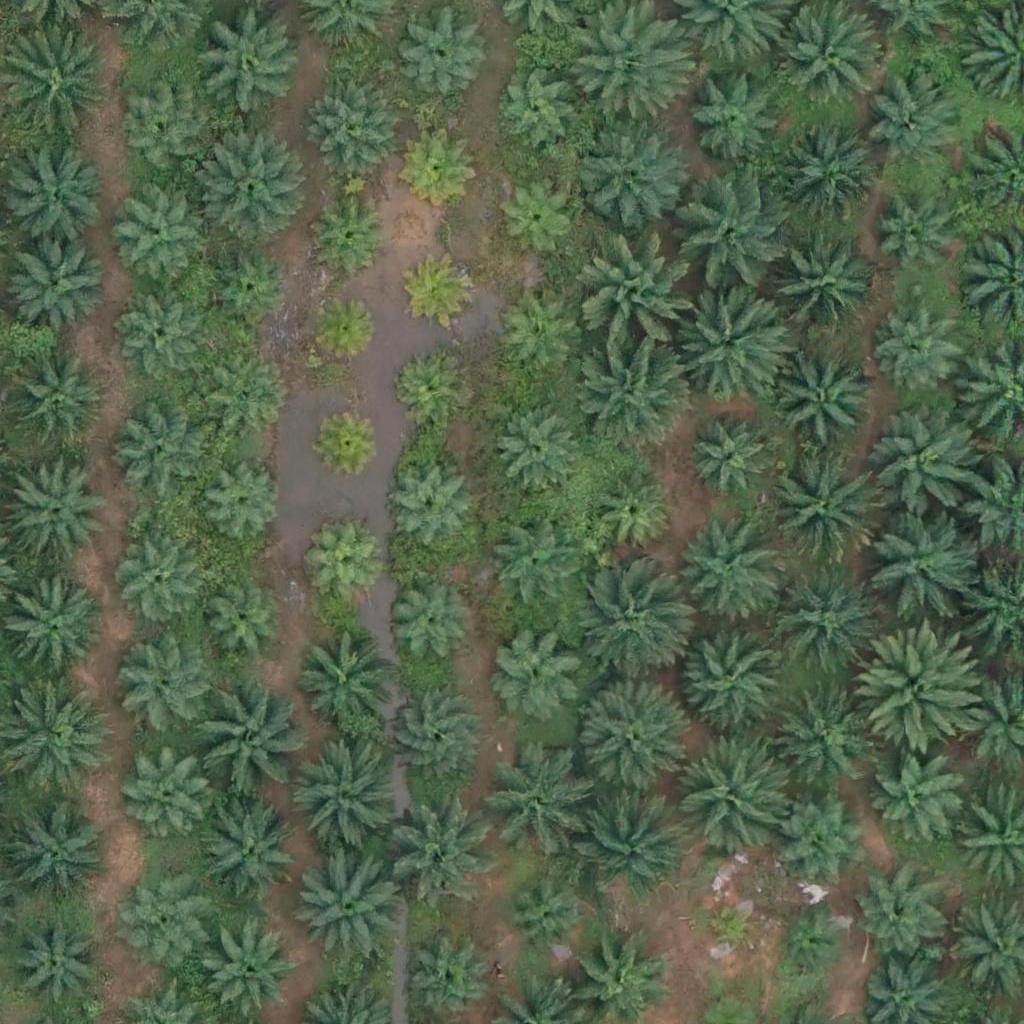Kelapa_Sawit: (860, 626, 985, 752), (862, 504, 975, 618), (286, 847, 399, 961), (763, 233, 876, 347), (764, 452, 877, 565), (768, 564, 881, 677), (675, 619, 788, 732), (572, 680, 685, 793), (680, 179, 793, 292), (579, 337, 692, 450), (193, 5, 306, 118), (194, 128, 307, 241), (869, 410, 982, 523), (572, 782, 684, 896), (289, 743, 401, 857), (585, 241, 697, 355), (668, 520, 780, 633), (673, 737, 785, 850), (570, 571, 682, 684), (383, 788, 495, 901), (187, 682, 299, 795), (776, 2, 888, 115), (675, 284, 787, 397), (572, 115, 684, 228), (772, 685, 872, 786), (774, 786, 874, 887), (480, 755, 580, 856), (293, 631, 393, 732), (196, 799, 296, 900), (117, 636, 217, 737), (6, 456, 106, 557), (775, 349, 875, 450), (680, 61, 780, 162), (2, 148, 102, 249), (7, 231, 107, 332), (6, 348, 106, 449), (113, 400, 213, 501), (487, 621, 587, 721), (385, 689, 485, 789), (869, 71, 969, 171), (776, 127, 876, 227), (7, 804, 106, 905), (854, 873, 942, 961), (587, 470, 675, 558), (501, 872, 589, 960), (382, 463, 470, 551), (208, 932, 296, 1020), (108, 535, 196, 623), (204, 243, 292, 331), (204, 361, 292, 449), (687, 415, 775, 503), (490, 171, 578, 259), (495, 294, 583, 382), (114, 199, 202, 287), (115, 291, 203, 379), (487, 520, 574, 609), (872, 753, 959, 841), (384, 579, 471, 667), (200, 459, 287, 547), (197, 583, 284, 671), (120, 866, 207, 954), (123, 751, 210, 839), (14, 917, 101, 1005), (873, 204, 960, 292), (878, 309, 965, 397), (493, 69, 580, 157), (494, 403, 581, 491), (308, 79, 395, 167), (395, 10, 482, 98), (120, 88, 207, 176), (389, 349, 464, 425), (773, 906, 848, 982), (306, 529, 381, 605), (311, 402, 386, 478), (404, 253, 479, 329), (314, 195, 389, 270), (306, 292, 381, 367), (404, 131, 479, 206), (699, 894, 761, 957)
